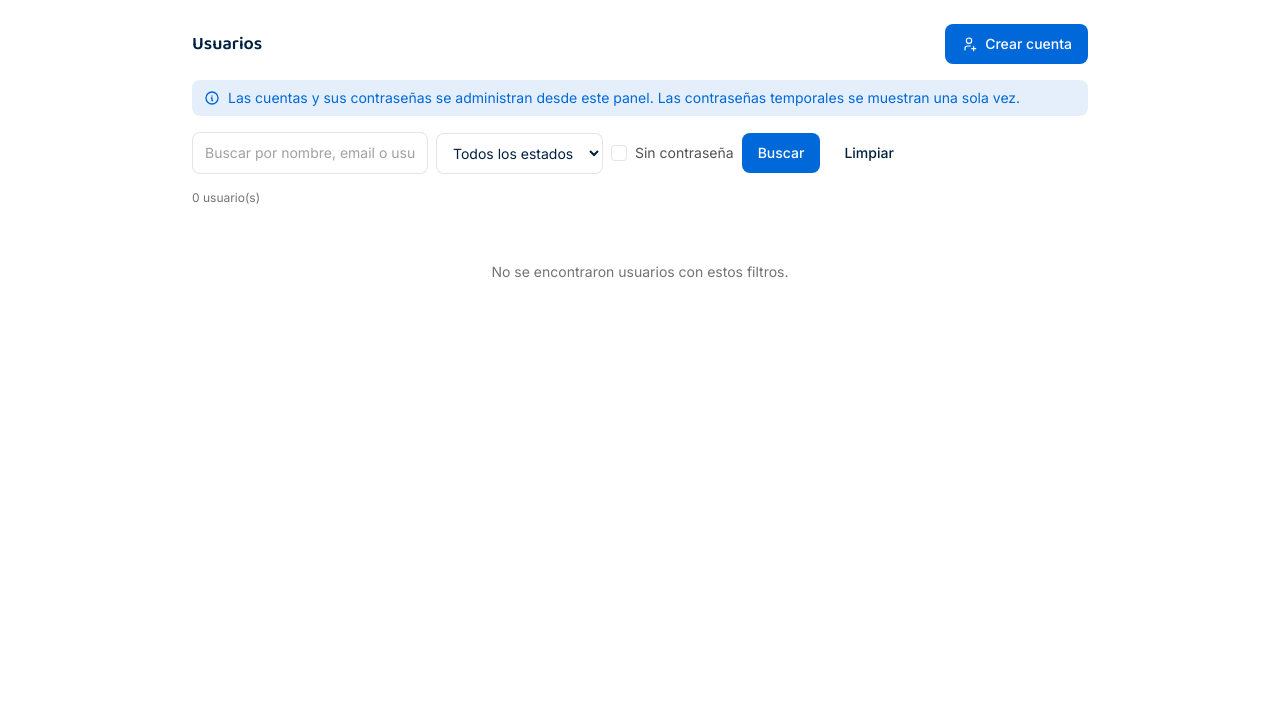
AdminUsersPanel › con cuentas locales › keeps the form open with the error when the email is taken
Click the button "Crear cuenta" at [1017, 44], box [945, 24, 1088, 64]
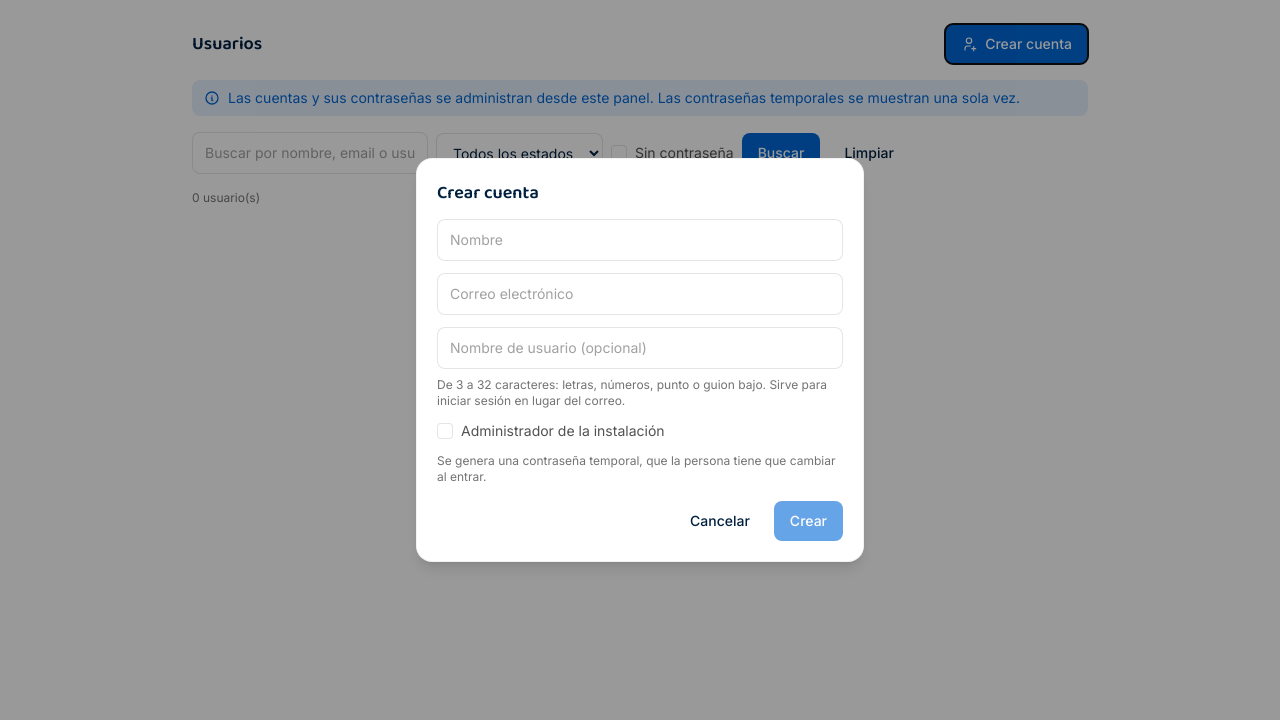
Type "Otra" into the field labelled "Nombre" at [640, 240], box [437, 219, 843, 261]
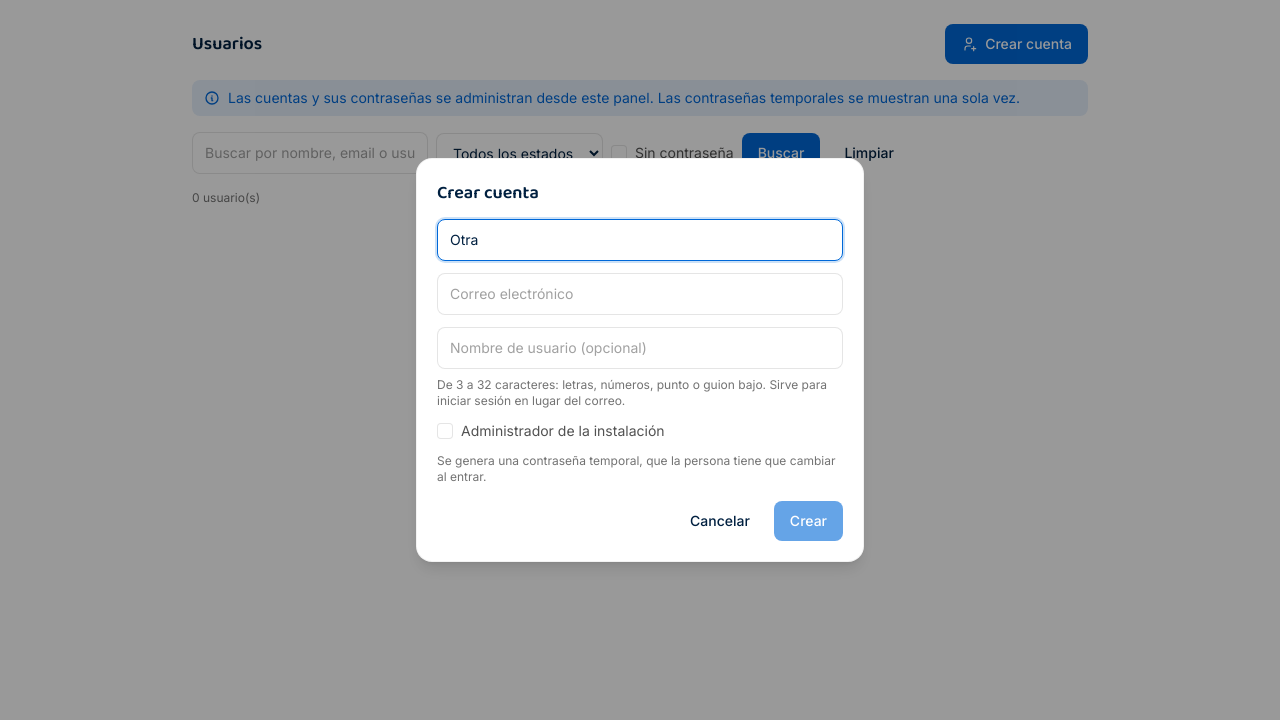
Type "otra@example.com" into the field labelled "Correo electrónico" at [640, 294], box [437, 273, 843, 315]
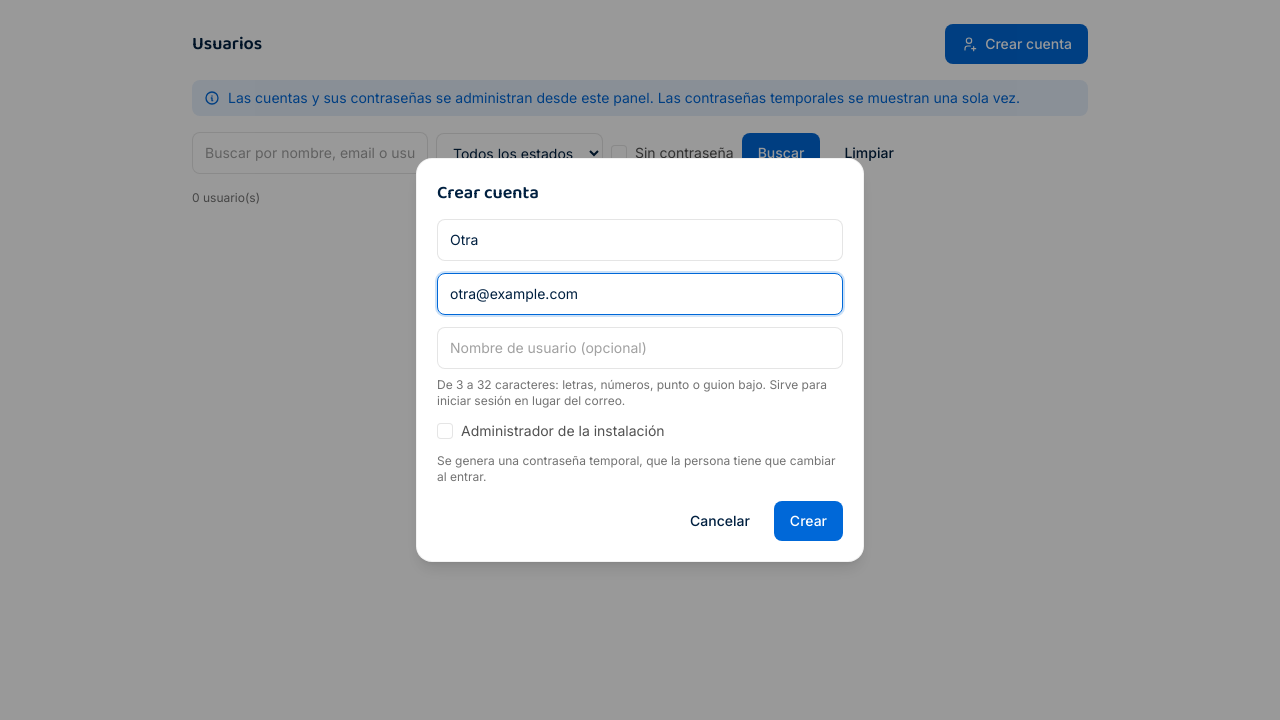
Click the button "Crear" at [808, 521], box [774, 501, 843, 541]
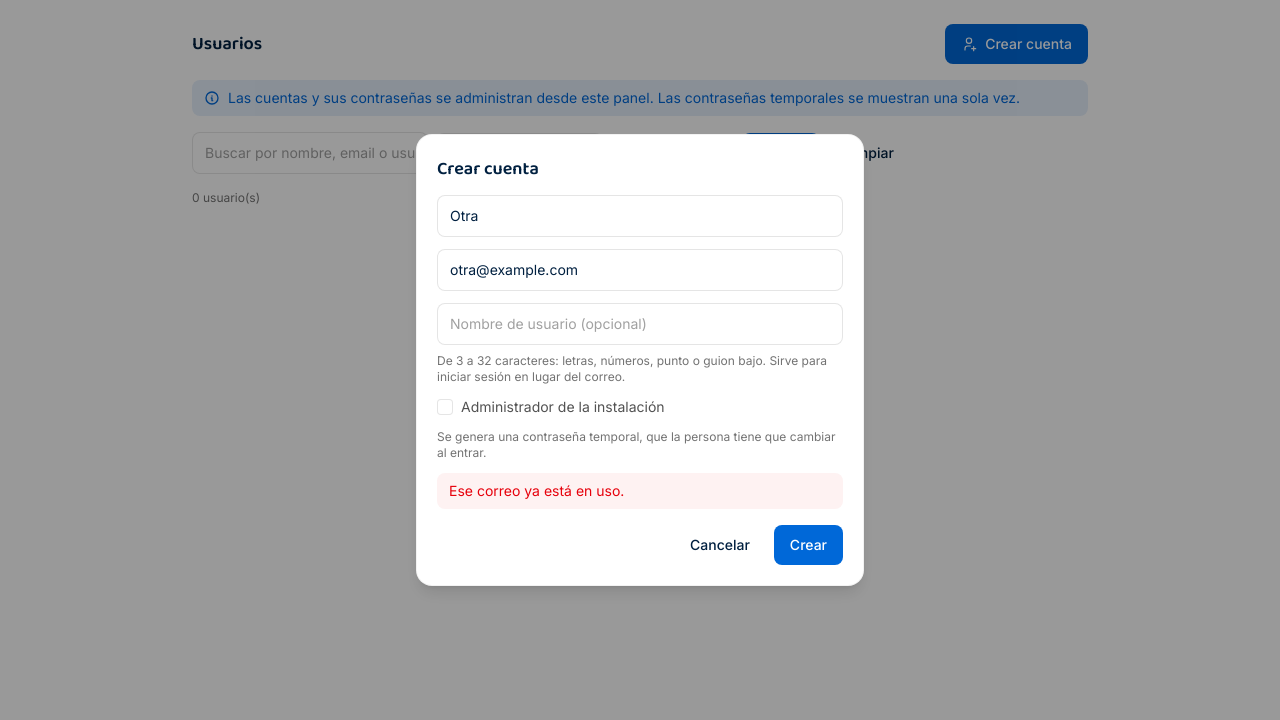
expect the message reads "Ese correo ya está en uso.": met, box [449, 482, 624, 499]
